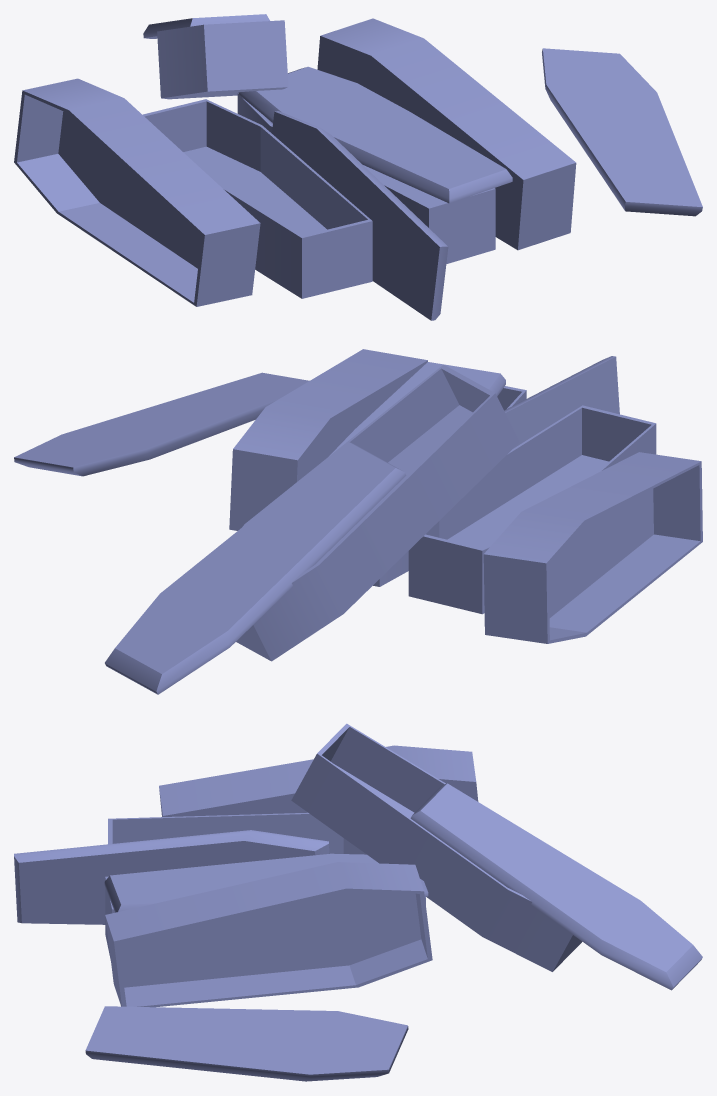
File: Coffin_04A_Lod0.fbx
3 renders of one model, top to bottom at view 1: azimuth 30°, elevation 25°; view 2: azimuth 150°, elevation 25°; view 3: azimuth 270°, elevation 25°, orthographic. The views are drawn at different scales.
Visible parts, largest first — view 1: Coffin_04A_Lod0; view 2: Coffin_04A_Lod0; view 3: Coffin_04A_Lod0.
Boxes of the visible parts, <box> form: Coffin_04A_Lod0: <box>14,14,702,320</box>; Coffin_04A_Lod0: <box>14,349,702,694</box>; Coffin_04A_Lod0: <box>14,723,702,1081</box>.
Size of the model in its own units: 331 by 108 by 374.
